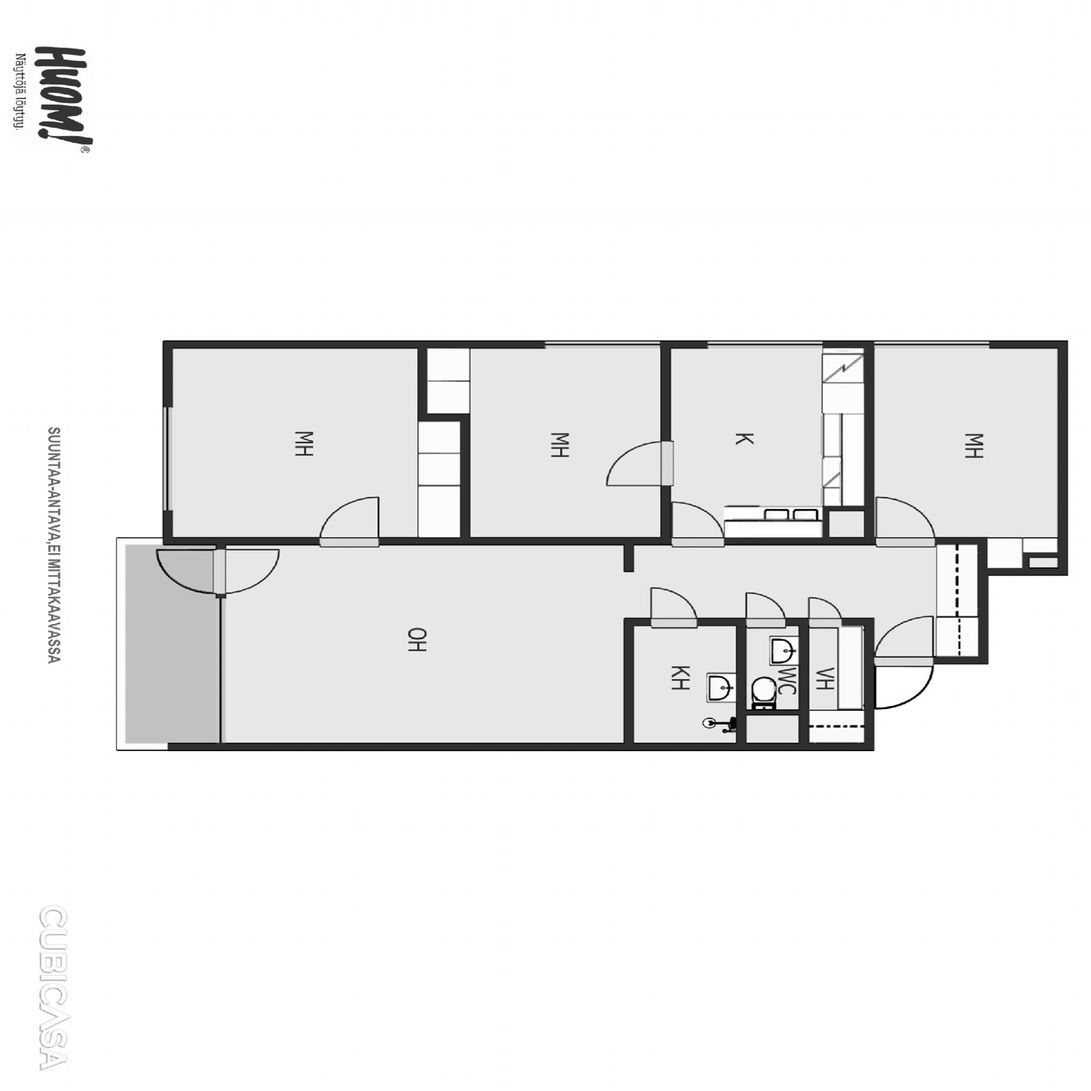wall: (162, 341, 1068, 348), (226, 537, 988, 545), (216, 743, 736, 750), (736, 710, 799, 750), (1058, 341, 1068, 575), (216, 537, 226, 751), (163, 341, 173, 545), (864, 341, 874, 545), (661, 341, 670, 545), (460, 414, 470, 545), (823, 506, 865, 537), (736, 618, 746, 743), (799, 618, 809, 743), (624, 618, 633, 750), (624, 618, 746, 626), (978, 568, 988, 664), (864, 657, 874, 750), (864, 657, 988, 664), (418, 341, 428, 421), (978, 568, 1068, 575), (799, 618, 874, 626), (736, 618, 809, 626), (1022, 552, 1058, 568), (799, 743, 874, 750), (163, 537, 226, 545), (864, 618, 874, 657), (418, 414, 470, 421), (168, 743, 216, 750), (624, 537, 633, 572), (978, 537, 988, 568)
